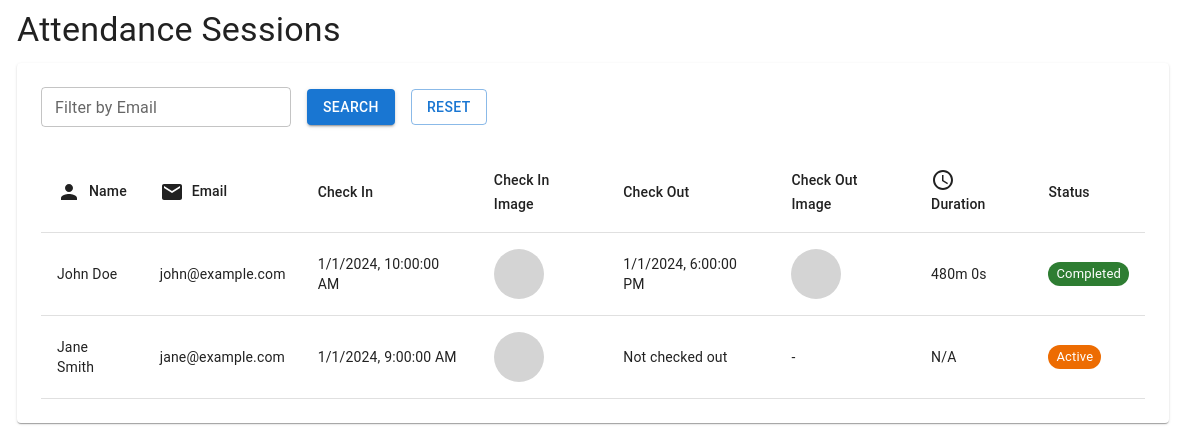
Test case: Sessions › should handle reset functionality
Type "john@example.com" into the field labelled "Filter by Email" at (166,107), box [41,87,291,127]
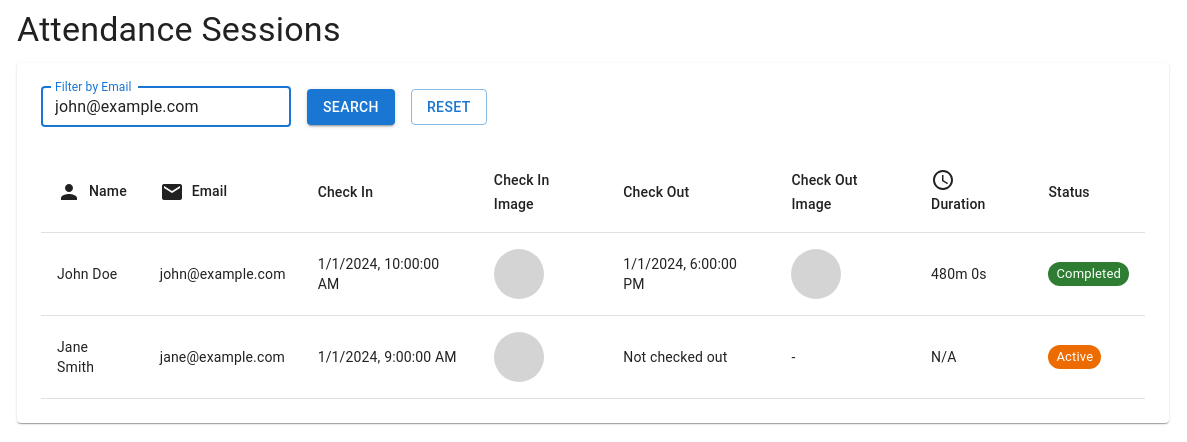
Click the button "Reset" at (449,107), box [411,89,487,125]
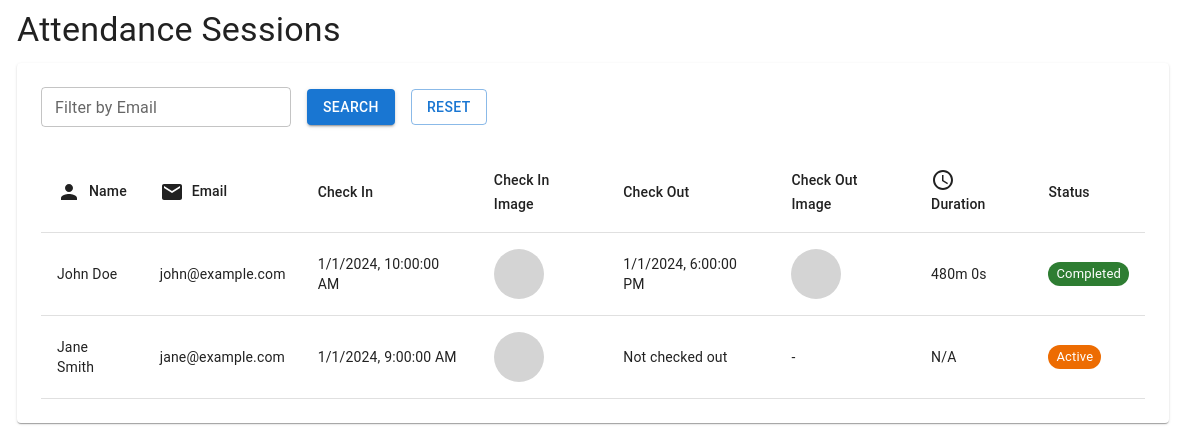
Check: the field labelled "Filter by Email" is empty, box [41,87,291,127]
